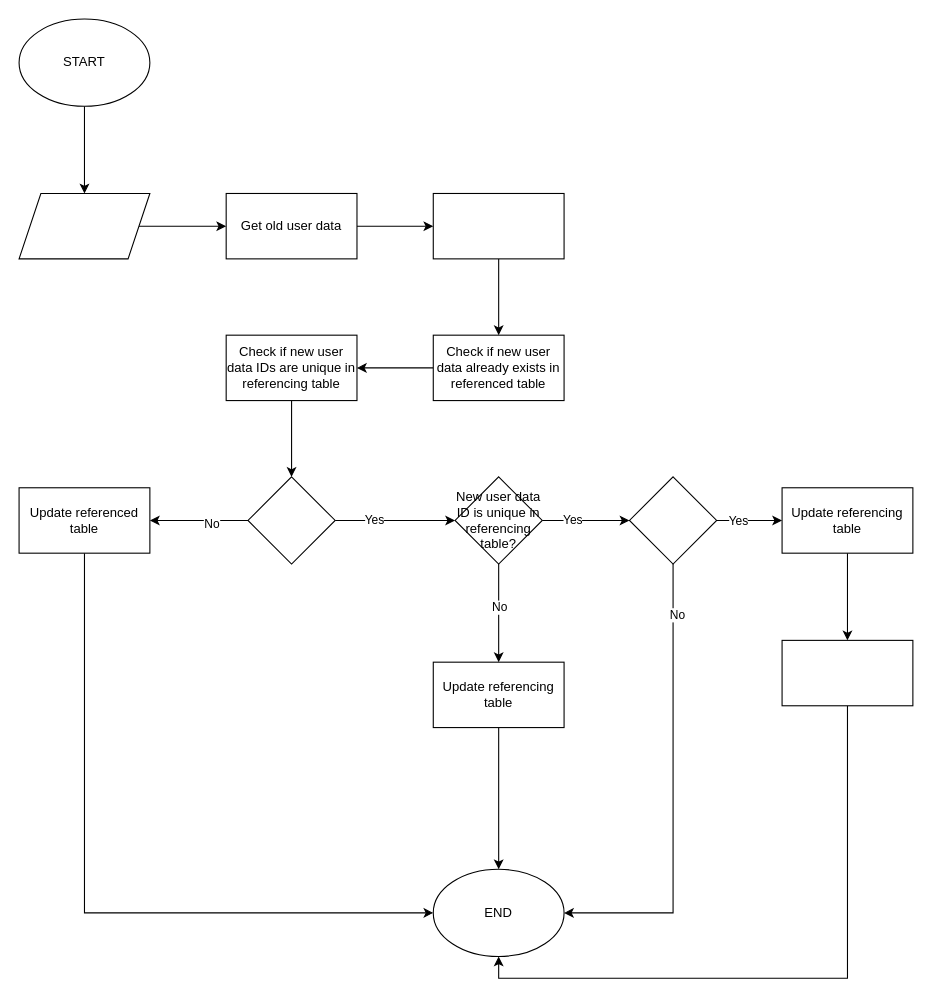
This 932x1006 diagram has some shape labels left out. The shapes that lost their labels are listed below. From the top down, each one's centre as x and y in pixels, then its label:
At point (84, 225): "New user data".
At point (498, 225): "Get old user data IDs".
At point (291, 520): "New user data exists in referenced table?".
At point (672, 520): "New user data != old user data?".
At point (847, 672): "Delete old user data from referenced table".
